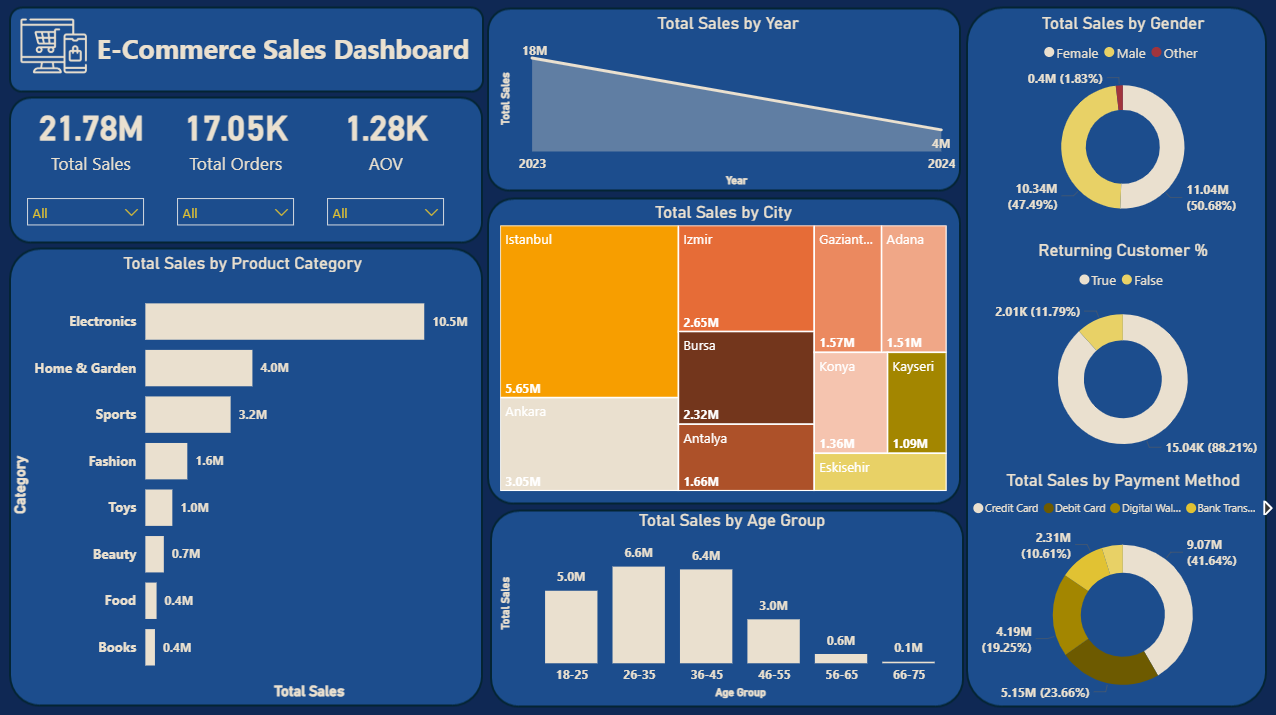

Layout of this report page (visuals, bound fields, positions):
{"tool":"powerbi","page":{"name":"Page 1","canvas":[1280,720],"ordinal":0},"visuals":[{"type":"card","title":"AOV","fields":{"Values":["Measuress.AOV"]},"box":[292.5,55,191.2,165],"z":0},{"type":"card","fields":{"Values":["Measuress.Total_Orders"]},"box":[151.2,55,173.8,165],"z":1000},{"type":"card","fields":{"Values":["Measuress.Total_Sales"]},"box":[1.2,55,183.8,165],"z":2000},{"type":"barChart","title":"Total Sales by Product Category","fields":{"Category":["Data.Product_Category"],"Y":["Measuress.Total_Sales"]},"box":[8.4,253.4,471.7,451.2],"z":3000},{"type":"donutChart","fields":{"Category":["Data.Payment_Method"],"Y":["Measuress.Total_Sales"]},"box":[969.9,471.7,310.1,242.5],"z":4000},{"type":"treemap","title":"Total Sales by City","fields":{"Values":["Measuress.Total_Sales"],"Group":["Data.City"]},"box":[497.1,202.7,456,294.4],"z":5000},{"type":"lineChart","title":"Total Sales by Year","fields":{"Category":["dcalendar.Date.Variation.Date Hierarchy.Year","dcalendar.Date.Variation.Date Hierarchy.Month"],"Y":["Measuress.Total_Sales"]},"box":[496.9,13.1,465,178.8],"z":6000},{"type":"pieChart","title":"Returning Customer %","fields":{"Category":["Data.Is_Returning_Customer"],"Y":["Measuress.Total_Orders"]},"box":[970,241.3,310.1,229.2],"z":7000},{"type":"donutChart","fields":{"Category":["Data.Gender"],"Y":["Measuress.Total_Sales"]},"box":[970,13.3,310.1,219.6],"z":8000},{"type":"clusteredColumnChart","fields":{"Category":["Data.Age_Group"],"Y":["Measuress.Total_Sales"]},"box":[497.1,511.5,472.9,193],"z":9000},{"type":"textbox","box":[93.8,26.2,450,80],"z":10000},{"type":"image","box":[11.2,13.8,88.8,66.2],"z":11000},{"type":"slicer","fields":{"Values":["Data.Product_Category"]},"box":[18.8,188.8,137.5,62.5],"z":12000},{"type":"slicer","fields":{"Values":["Data.City"]},"box":[168.8,188.8,137.5,62.5],"z":12001},{"type":"slicer","fields":{"Values":["dcalendar.Date.Variation.Date Hierarchy.Year","dcalendar.Date.Variation.Date Hierarchy.Month"]},"box":[318.8,188.8,137.5,62.5],"z":12002}]}

Visuals, with their boxes in screenshot pixels (x1, y1, x2, y2), scaled from the page's 1280x720 canvas onto the 1276x715 screenshot:
"AOV" card: BBox(292, 55, 482, 218)
card - Measuress.Total_Orders: BBox(151, 55, 324, 218)
card - Measuress.Total_Sales: BBox(1, 55, 184, 218)
"Total Sales by Product Category" barChart: BBox(8, 252, 479, 700)
donutChart - Data.Payment_Method x Measuress.Total_Sales: BBox(967, 468, 1275, 709)
"Total Sales by City" treemap: BBox(496, 201, 950, 494)
"Total Sales by Year" lineChart: BBox(495, 13, 959, 191)
"Returning Customer %" pieChart: BBox(967, 240, 1275, 467)
donutChart - Data.Gender x Measuress.Total_Sales: BBox(967, 13, 1275, 231)
clusteredColumnChart - Data.Age_Group x Measuress.Total_Sales: BBox(496, 508, 967, 700)
textbox: BBox(94, 26, 542, 105)
image: BBox(11, 14, 100, 79)
slicer - Data.Product_Category: BBox(19, 187, 156, 250)
slicer - Data.City: BBox(168, 187, 305, 250)
slicer - dcalendar.Date.Variation.Date Hierarchy.Year x dcalendar.Date.Variation.Date Hierarchy.Month: BBox(318, 187, 455, 250)
